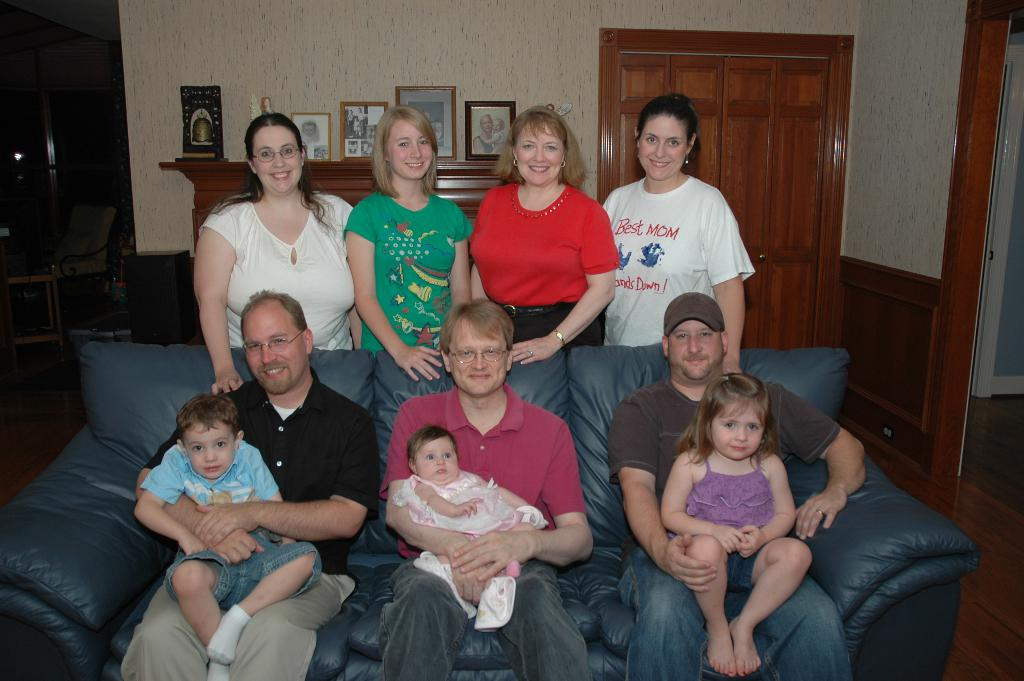Person: (120, 93, 865, 680)
